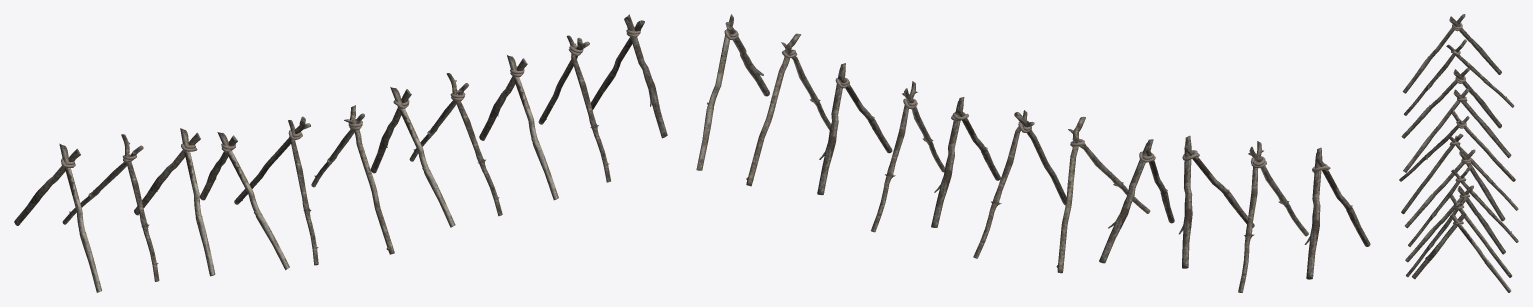
The model's file is SM_SmallCabin_RoofOrnament.fbx.
3 views of the same model, side by side, from view 1: azimuth 30°, elevation 25°; view 2: azimuth 150°, elevation 25°; view 3: azimuth 270°, elevation 25° (orthographic). The views are drawn at different scales.
Visible parts, largest first — view 1: SM_SmallCabin_RoofOrnament; view 2: SM_SmallCabin_RoofOrnament; view 3: SM_SmallCabin_RoofOrnament.
Part boxes in pixels (x1=…): SM_SmallCabin_RoofOrnament: x1=14, y1=14, x2=667, y2=292; SM_SmallCabin_RoofOrnament: x1=696, y1=14, x2=1370, y2=292; SM_SmallCabin_RoofOrnament: x1=1399, y1=14, x2=1518, y2=292.
Bounding box in the file's own units: 626 × 158 × 150.
